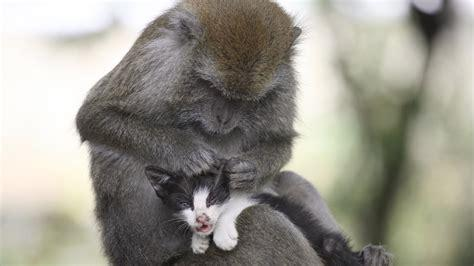cat: (145, 160, 266, 255)
monkey: (76, 1, 393, 266)
